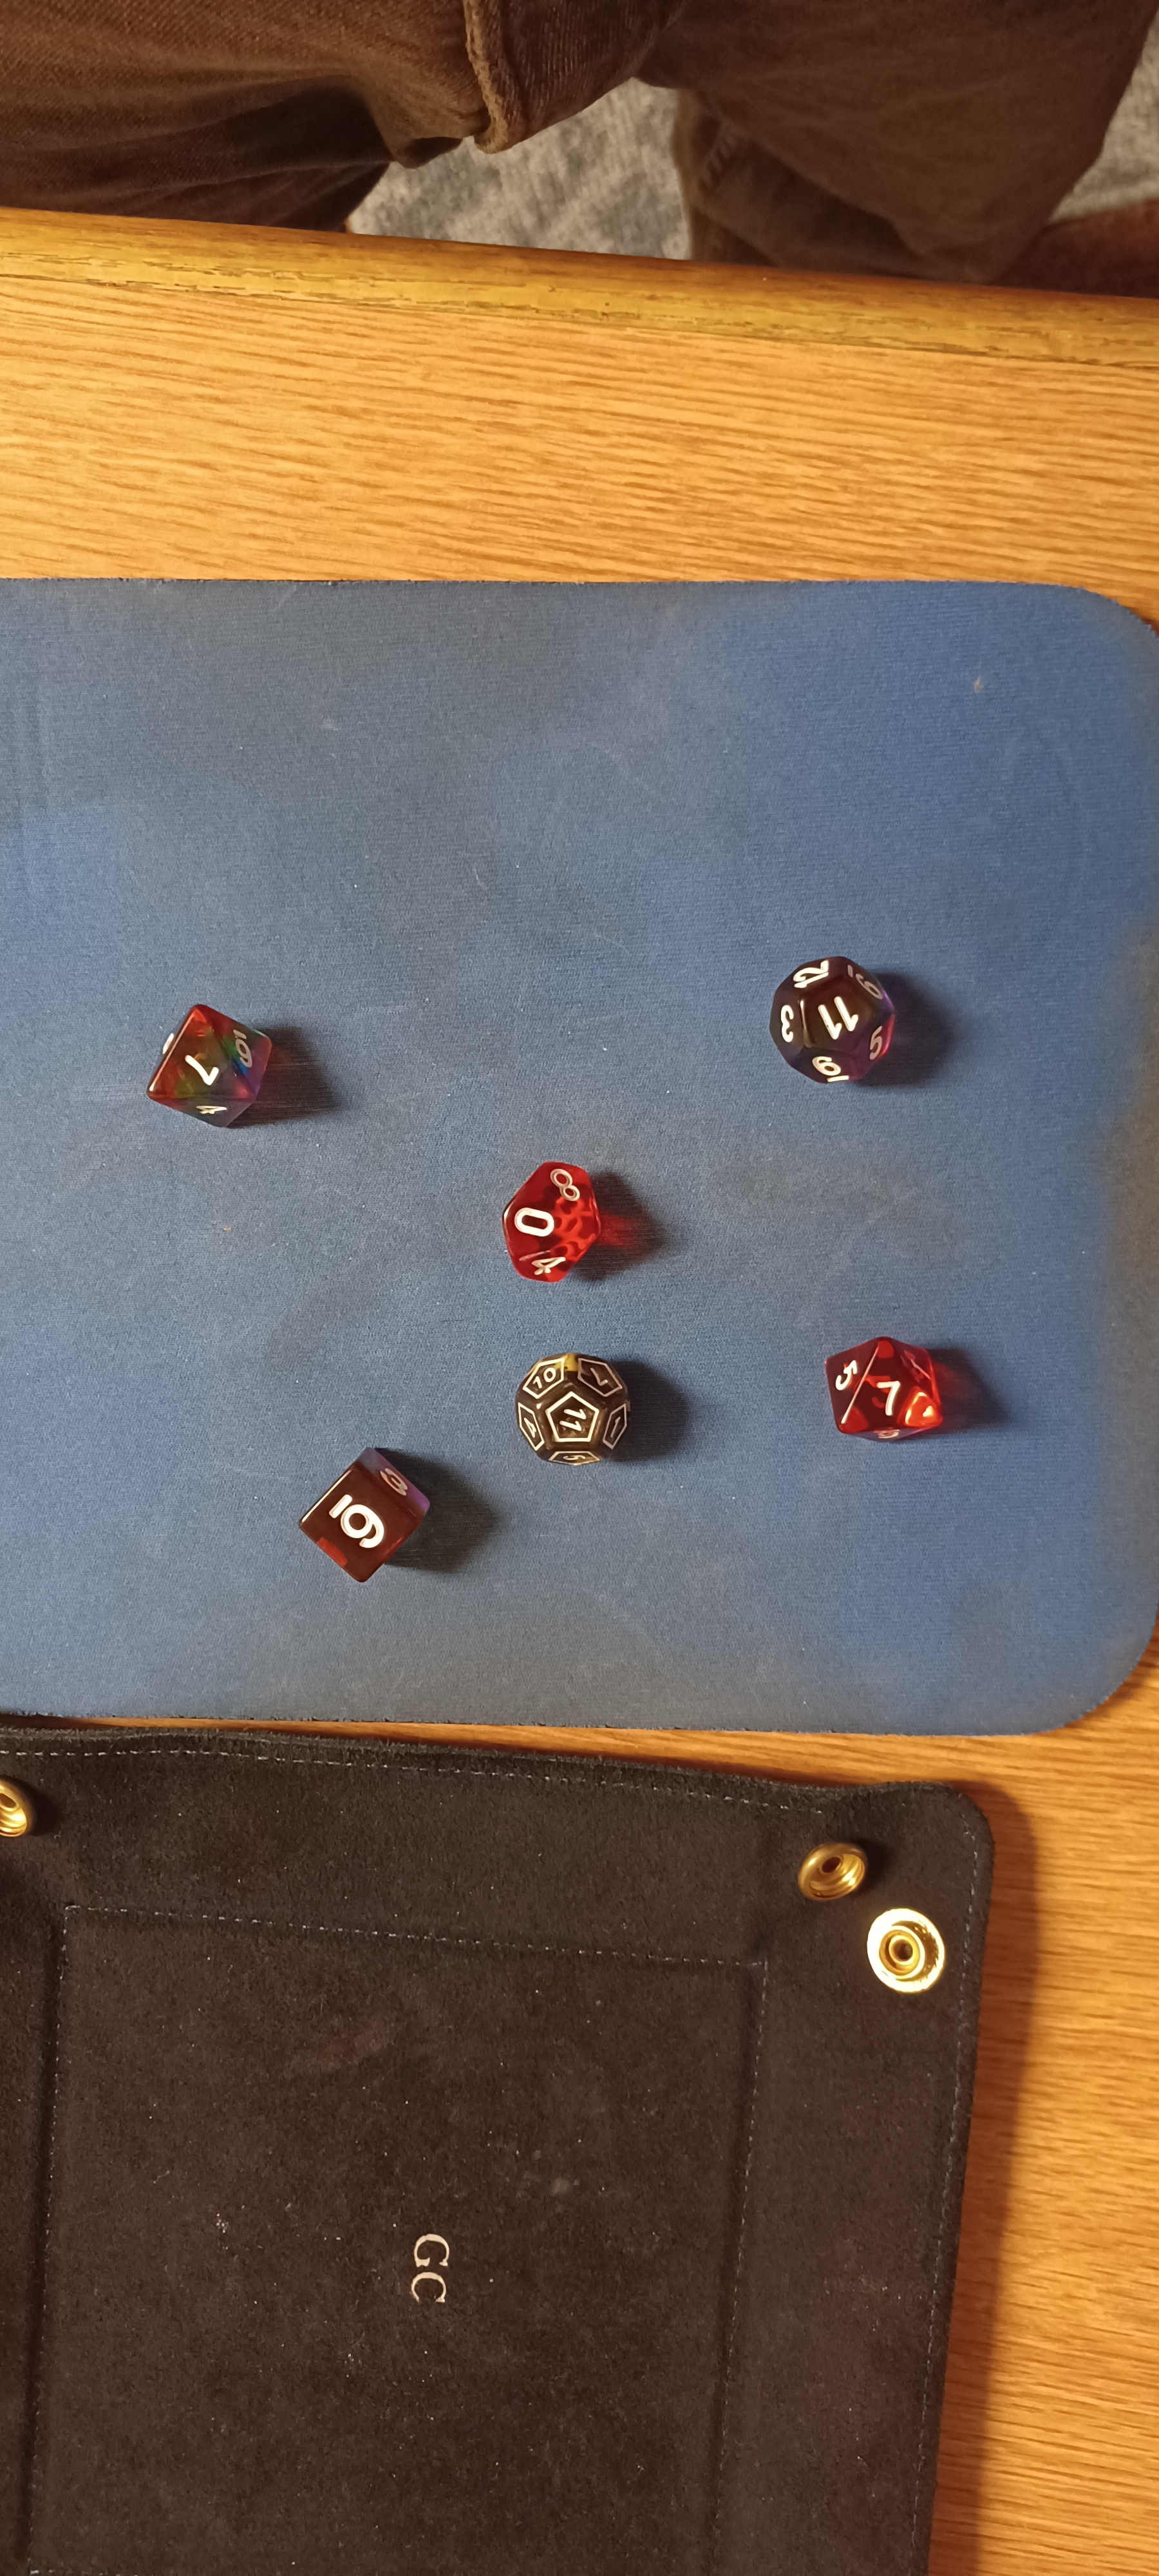eleven: (721, 922, 951, 1114), (502, 1336, 665, 1480)
seven: (117, 971, 307, 1161), (791, 1316, 987, 1470)
six: (269, 1428, 463, 1610)
zero: (456, 1148, 665, 1313)
